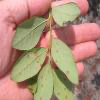Blueberry leaf: (9, 15, 50, 55), (51, 33, 80, 88), (7, 48, 51, 84), (46, 67, 75, 99), (33, 60, 55, 100), (51, 4, 83, 27)
